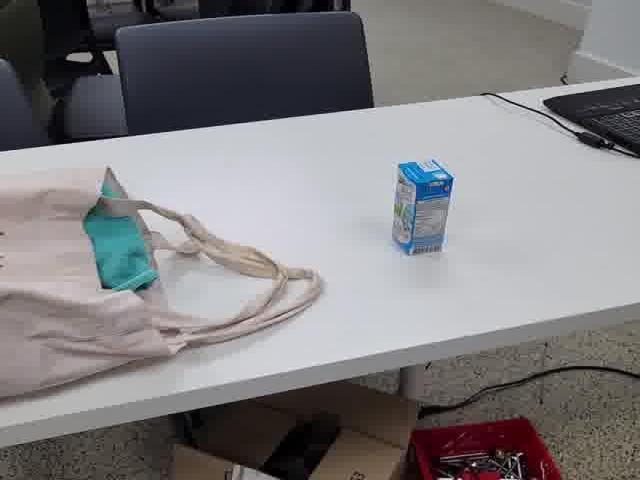drink_box: (387, 153, 456, 265)
